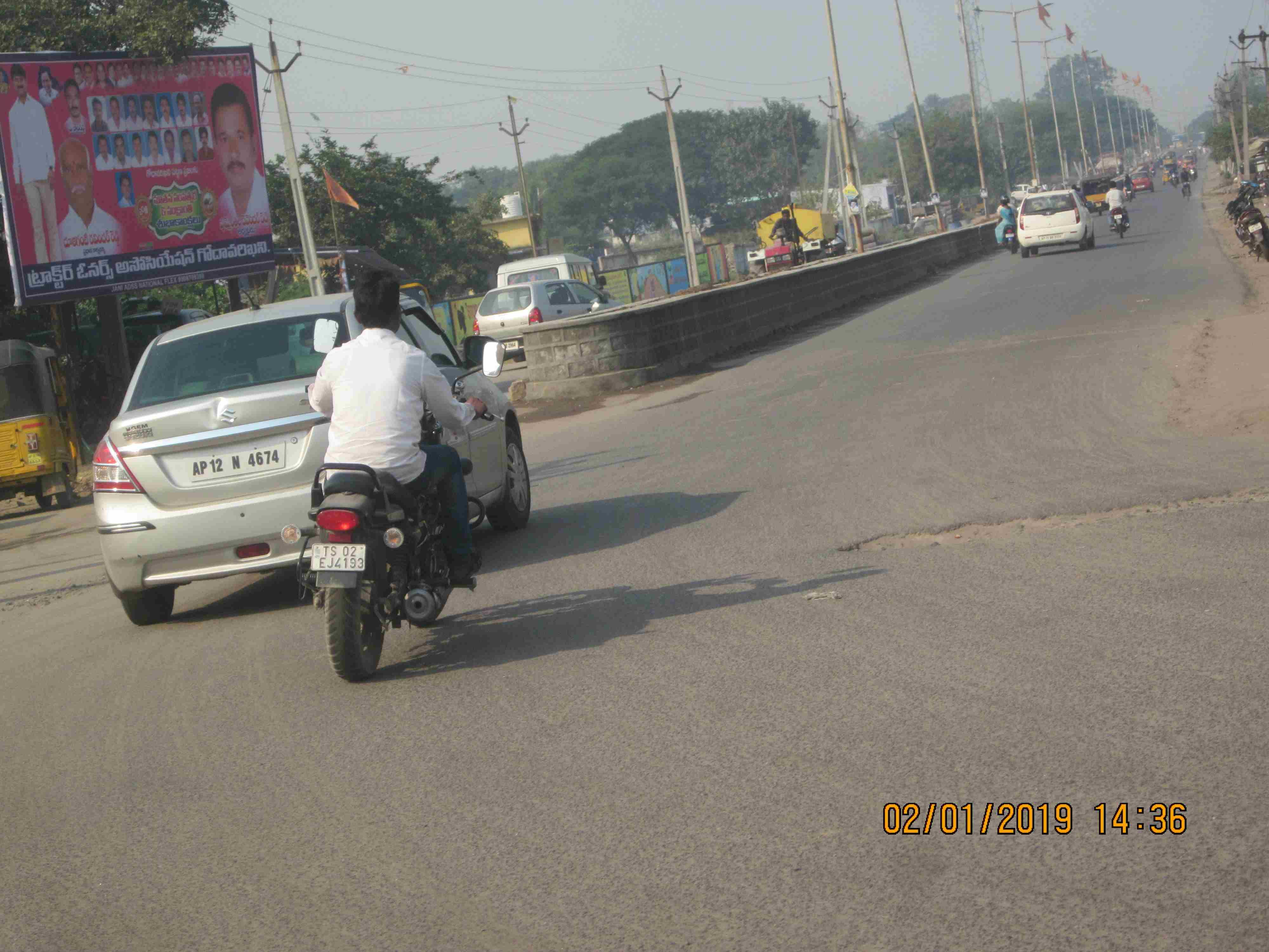plate: (306, 536, 376, 572)
